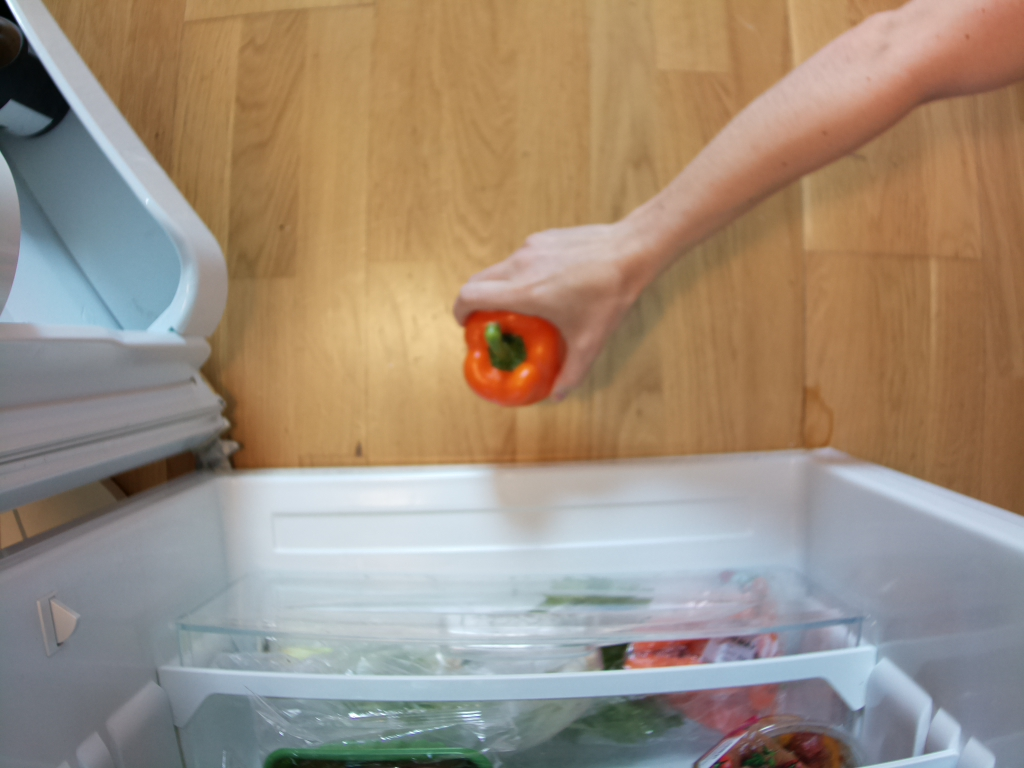pepper: (464, 307, 568, 406)
